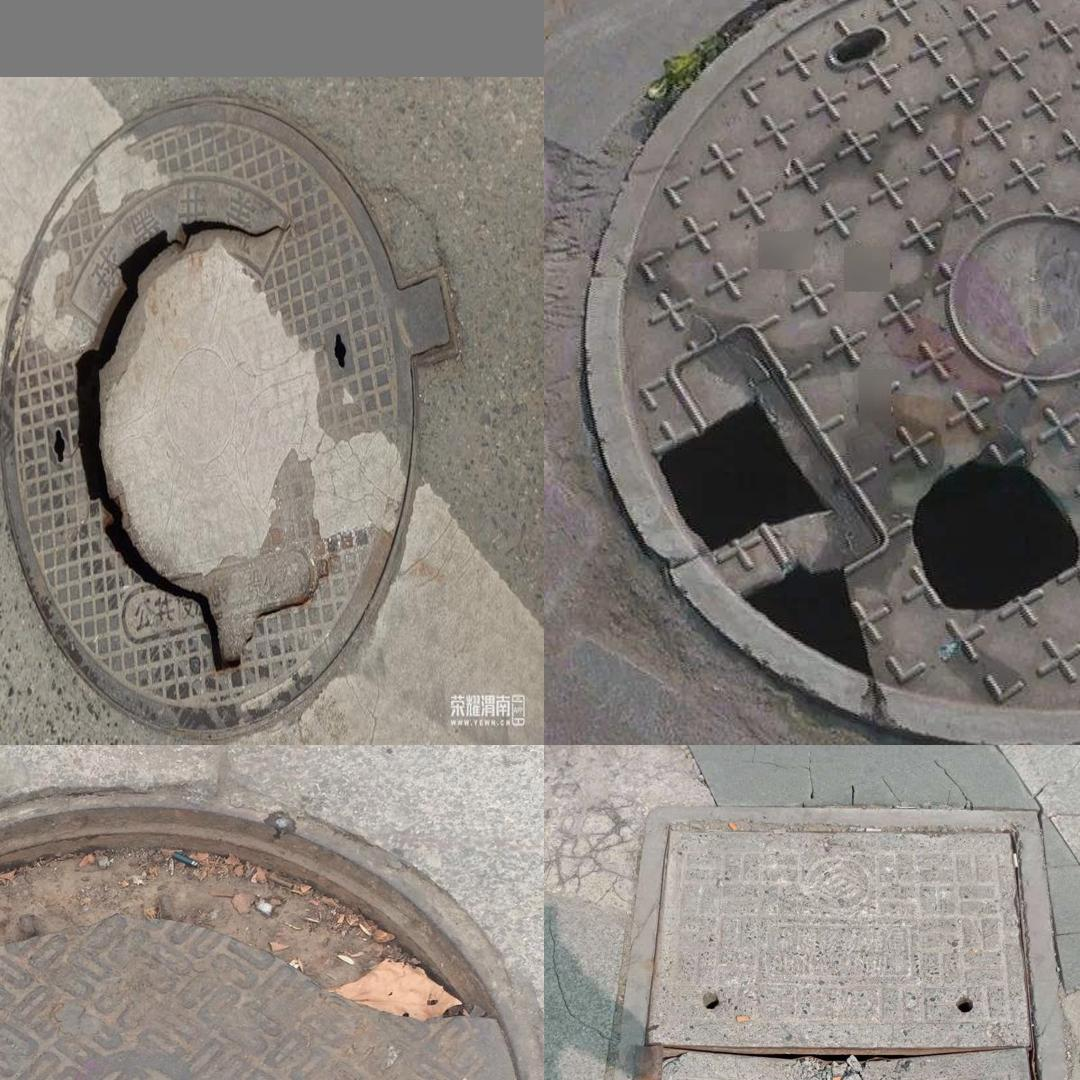broke: (627, 0, 1080, 721), (0, 87, 425, 738), (0, 771, 534, 1080), (580, 804, 1080, 1080)
